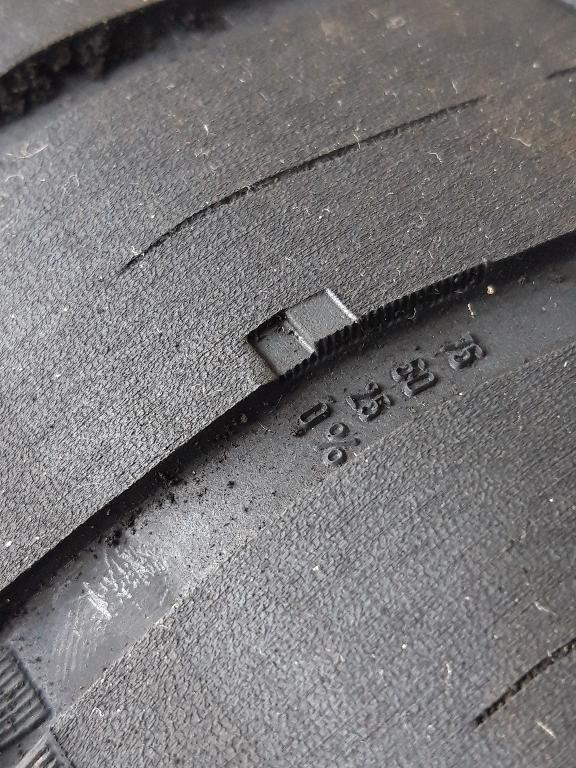temoin:25: (237, 280, 371, 395)
